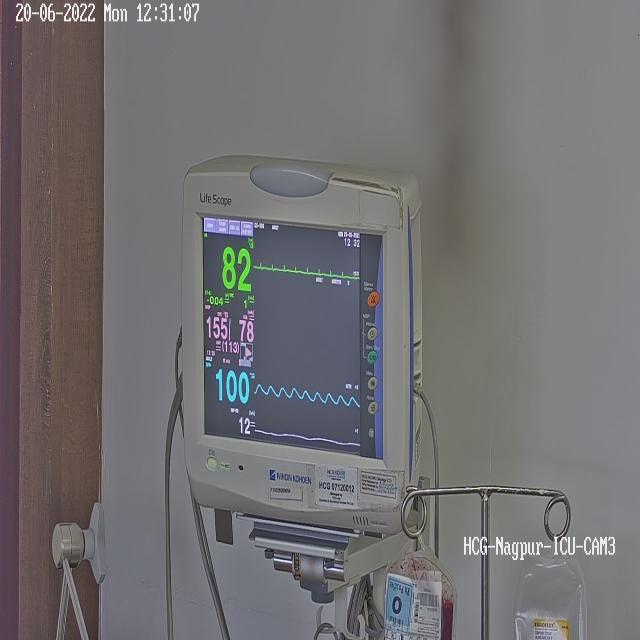Monitor: (180, 152, 437, 640)
Saline Stand: (393, 459, 610, 640)
